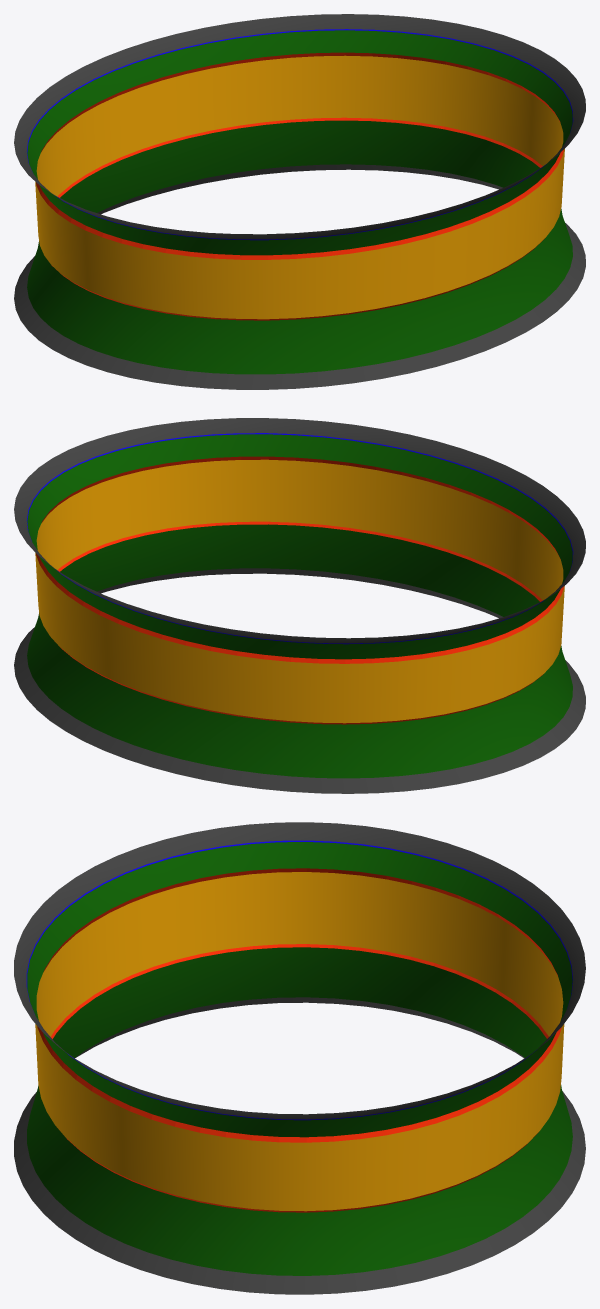
File: Progeny Arena.FBX
3 renders of one model, top to bottom at view 1: azimuth 30°, elevation 25°; view 2: azimuth 150°, elevation 25°; view 3: azimuth 270°, elevation 25°, orthographic. The views are drawn at different scales.
Visible parts, largest first — view 1: Arena; view 2: Arena; view 3: Arena.
Boxes of the visible parts, <box> form: Arena: <box>14,14,585,389</box>; Arena: <box>14,418,585,793</box>; Arena: <box>14,822,585,1294</box>.
Bounding box in the file's own units: 147 × 42.37 × 122.
